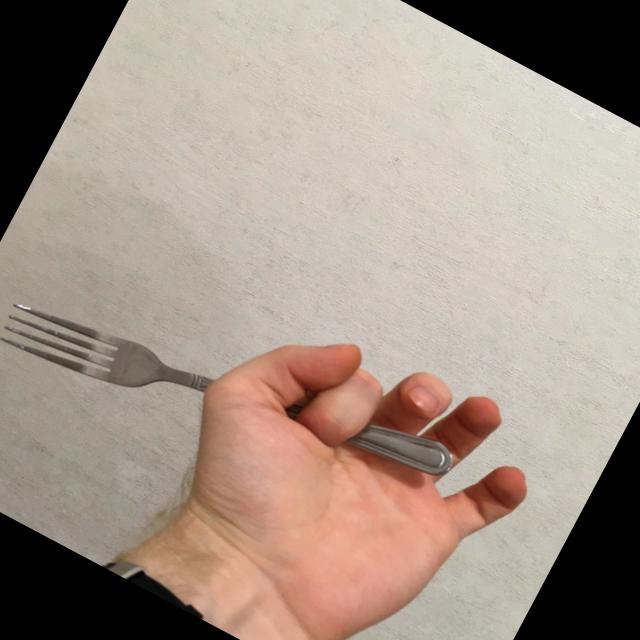fork: (0, 231, 462, 559)
